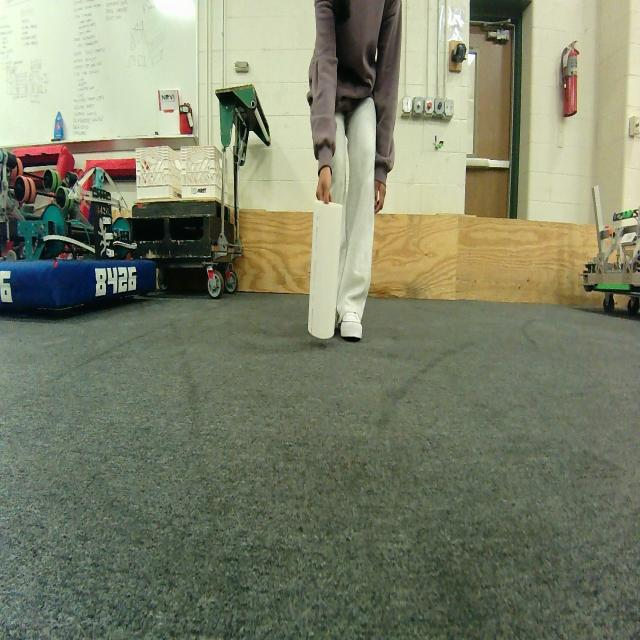coral: (308, 189, 346, 339)
